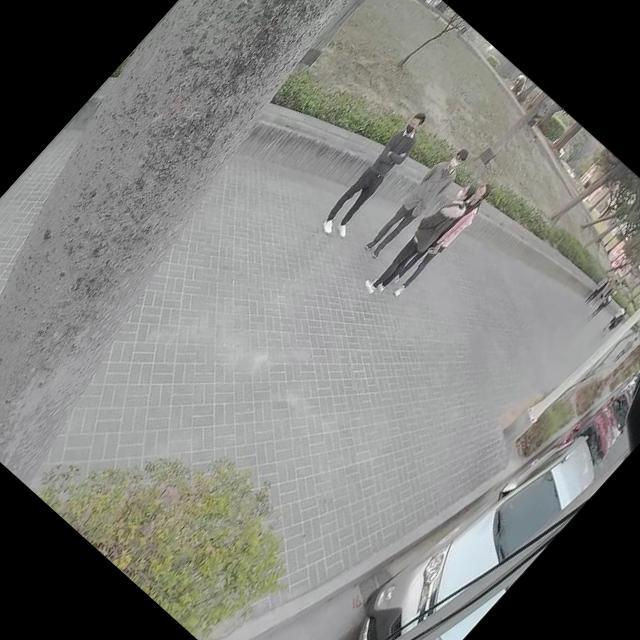person: (358, 167, 487, 305), (316, 106, 440, 240), (378, 173, 502, 306), (362, 140, 472, 260)
